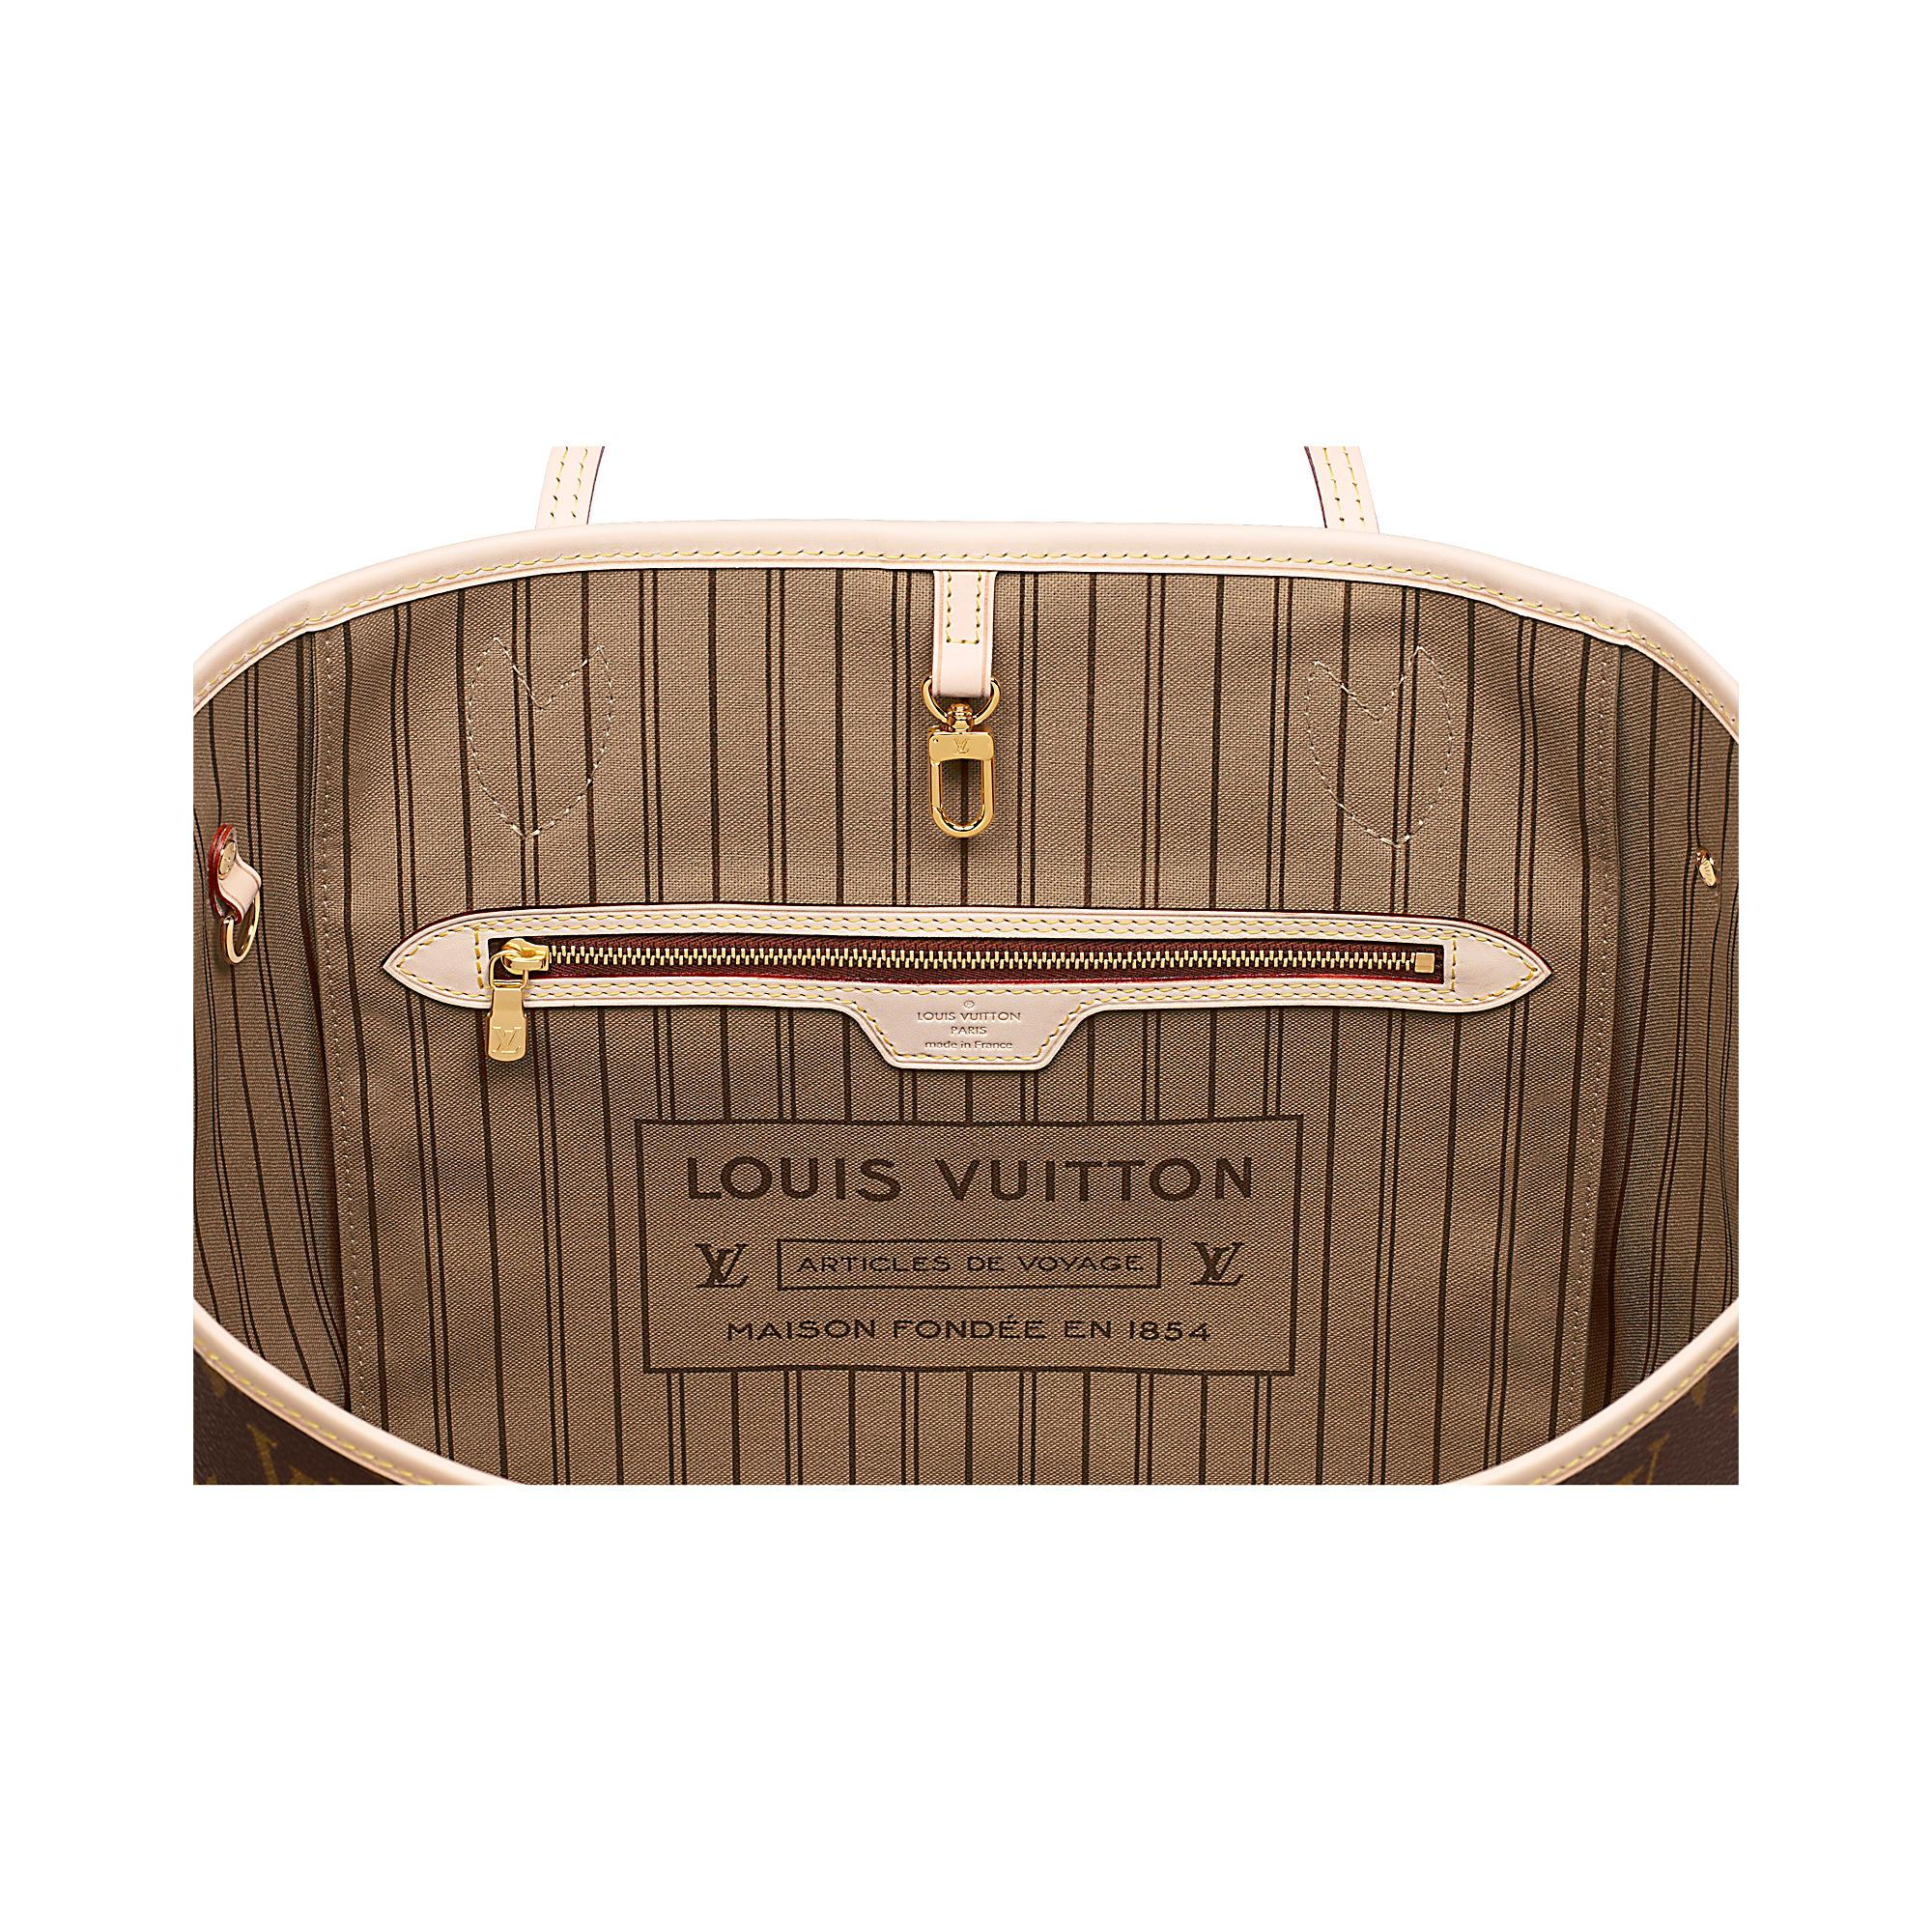LOUIS-VUITTON: (1185, 1235, 1247, 1292), (688, 1240, 747, 1293)
